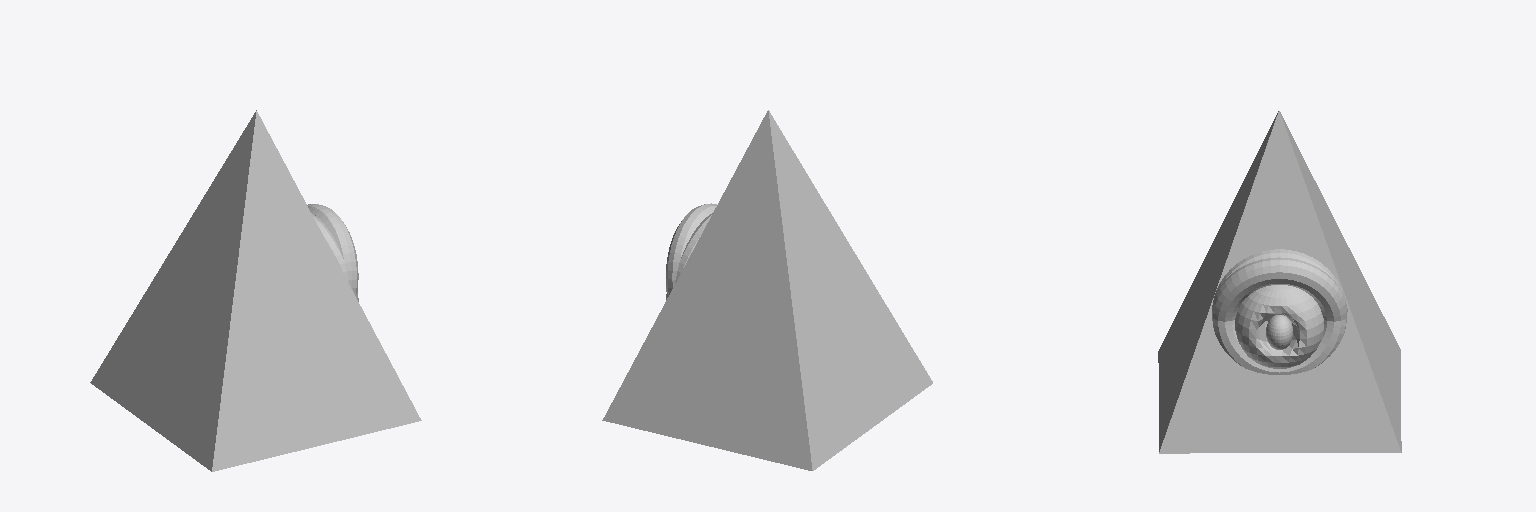
Rendered from Pyramid_Complete.obj.
3 renders of one model, left to right at view 1: azimuth 30°, elevation 25°; view 2: azimuth 150°, elevation 25°; view 3: azimuth 270°, elevation 25°, orthographic.
Visible parts, largest first — view 1: Pyramid_Cone, Eye_lid_Torus.010; view 2: Pyramid_Cone, Eye_lid_Torus.010; view 3: Pyramid_Cone, Eye_lid_Torus.010, eye_ball_Sphere.004, pupil_Sphere.005.
Part boxes in pixels (x1,y1,x2,y2): Pyramid_Cone: (90,110,421,471); Eye_lid_Torus.010: (307,204,358,301); Pyramid_Cone: (602,110,932,470); Eye_lid_Torus.010: (666,203,716,299); Pyramid_Cone: (1158,111,1401,453); Eye_lid_Torus.010: (1212,249,1347,374); eye_ball_Sphere.004: (1235,285,1323,368); pupil_Sphere.005: (1266,315,1292,349).
Size of the model in its own units: 5.08 by 6.74 by 5.08.